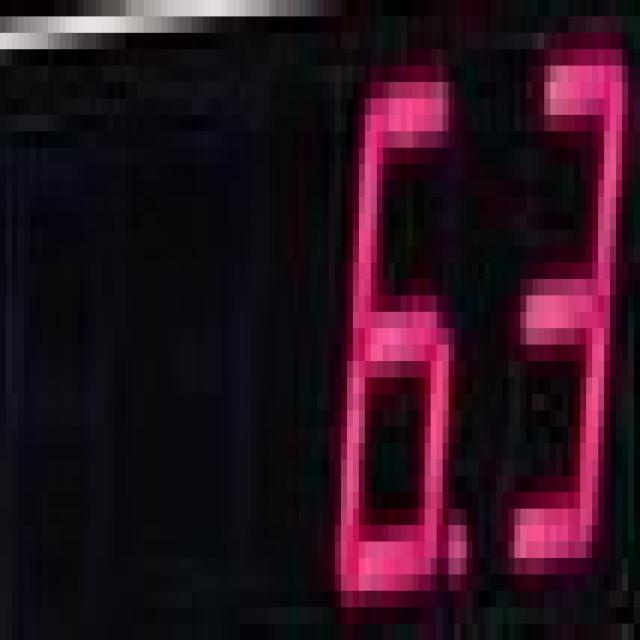.: (441, 502, 474, 589)
3: (503, 28, 632, 578)
6: (323, 48, 481, 617)
